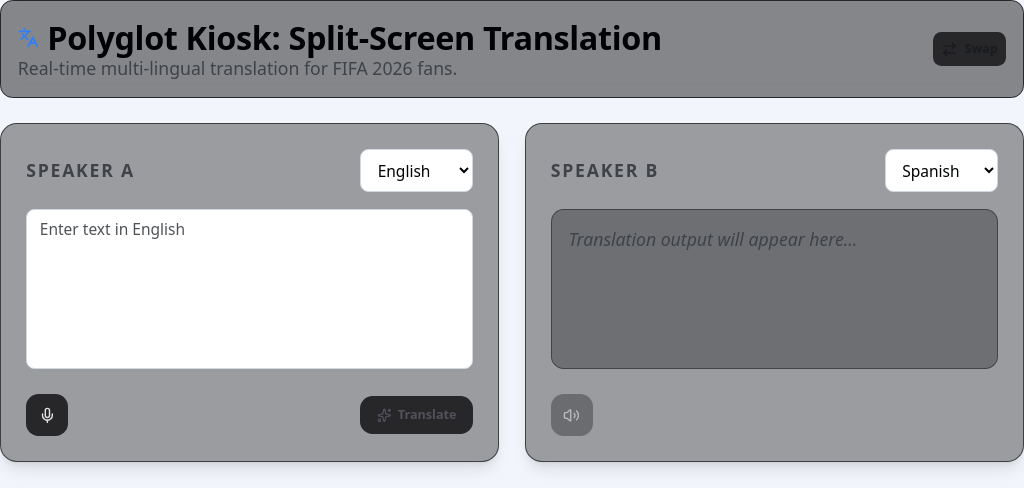
Test: PolyglotKiosk Unit Component › translates English → Spanish and swaps speakers
The image size is (1024, 488).
Type "Welcome to MetLife Stadium" into the text box named "Select Language for Speaker A — English" at (250, 289), box [26,209,473,369]
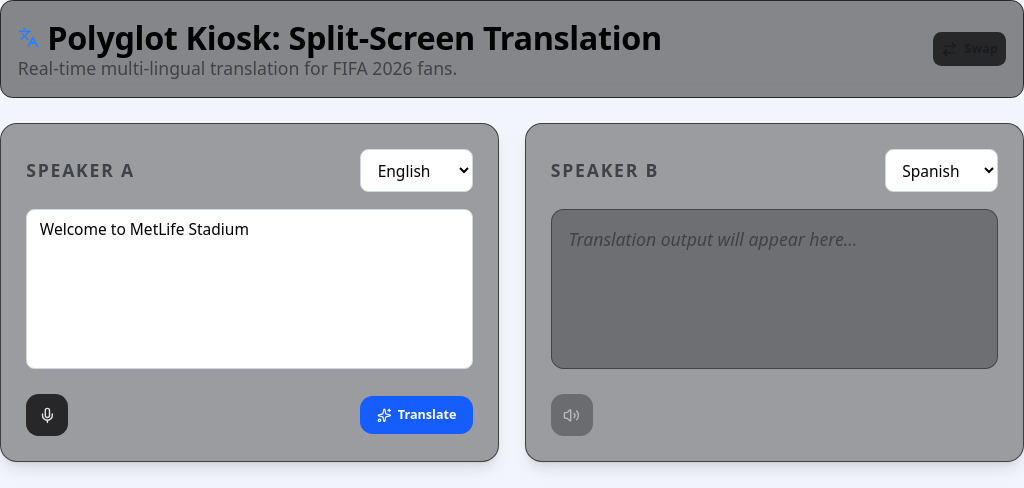
Click the button with aria-label "Translate spoken phrase" at (417, 415), box [360,396,473,434]
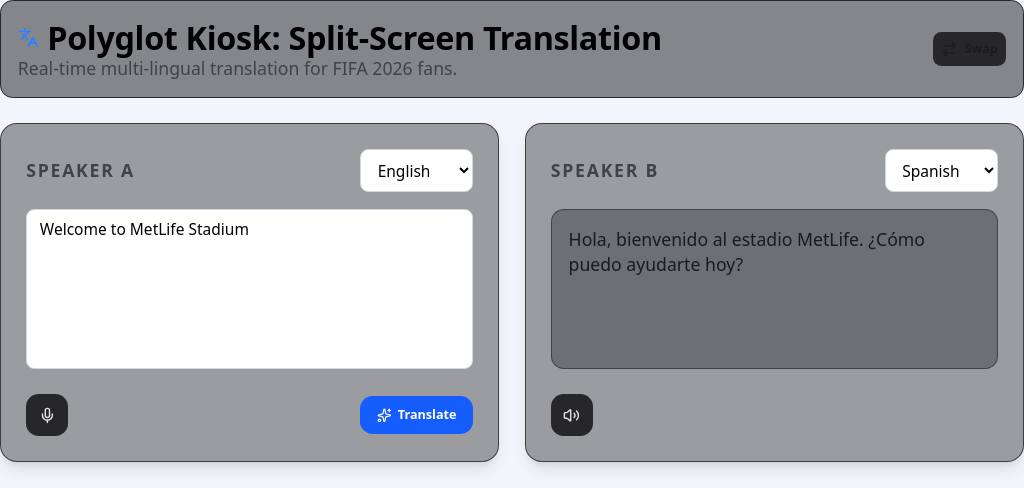
Expected: the text "Hola, bienvenido al estadio MetLife" is shown, [569,227,925,276]
Note: Swap speakers
Click the button with aria-label "Swap speaker languages" at (970, 49), box [933,32,1006,66]
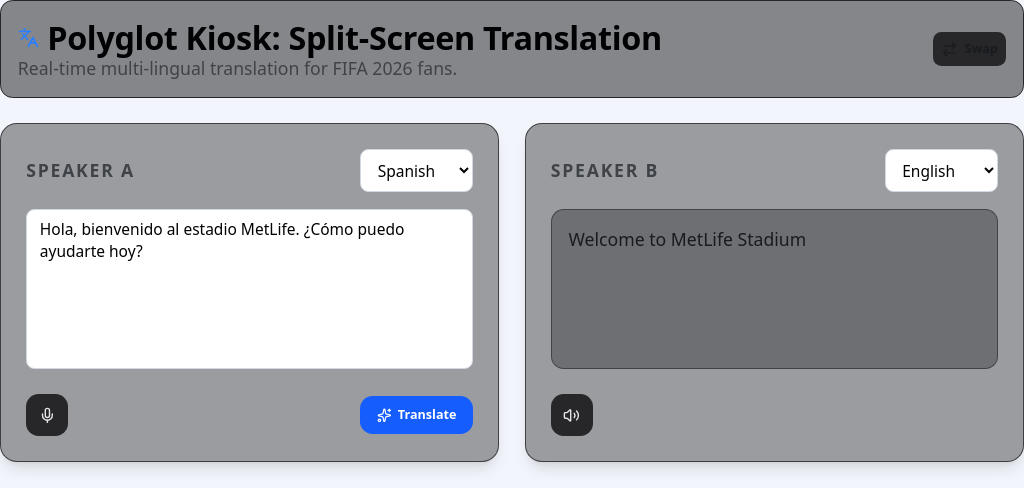
Expected: the text box showing "Hola, bienvenido al estadio MetLife" is shown, [26,209,473,369]
